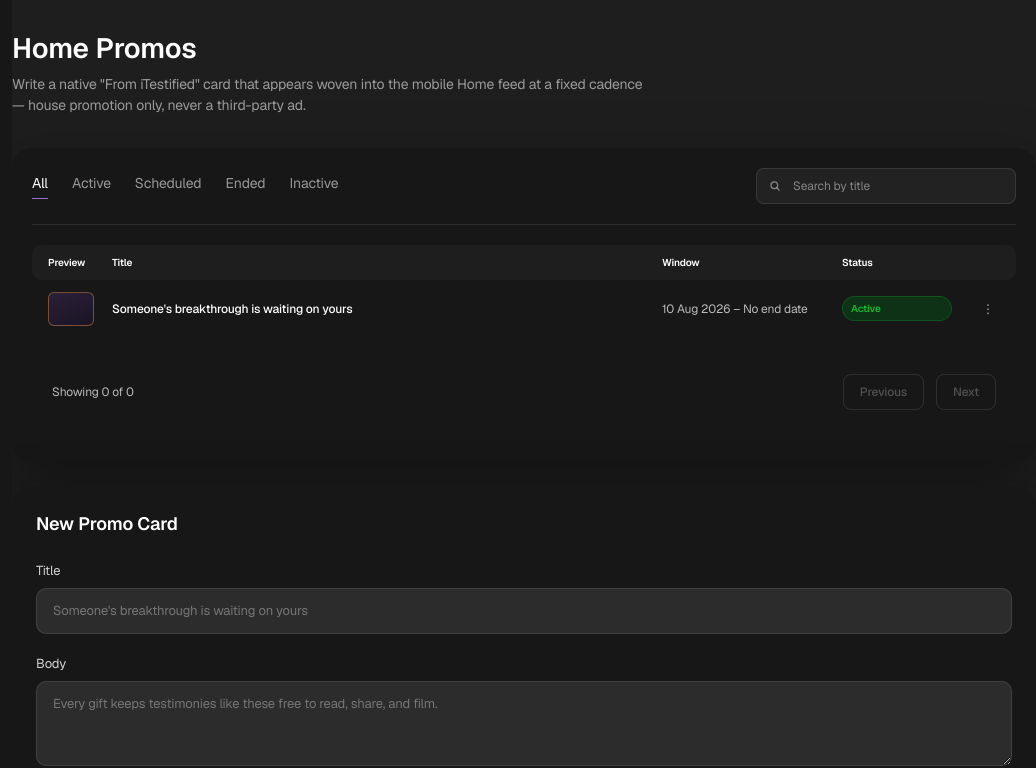
HomePromosPage › switching status tabs fetches and swaps in the new view model
The width and height of the screenshot is (1036, 768).
Click the button "Scheduled".
click(168, 186)  # box [135,173,202,199]
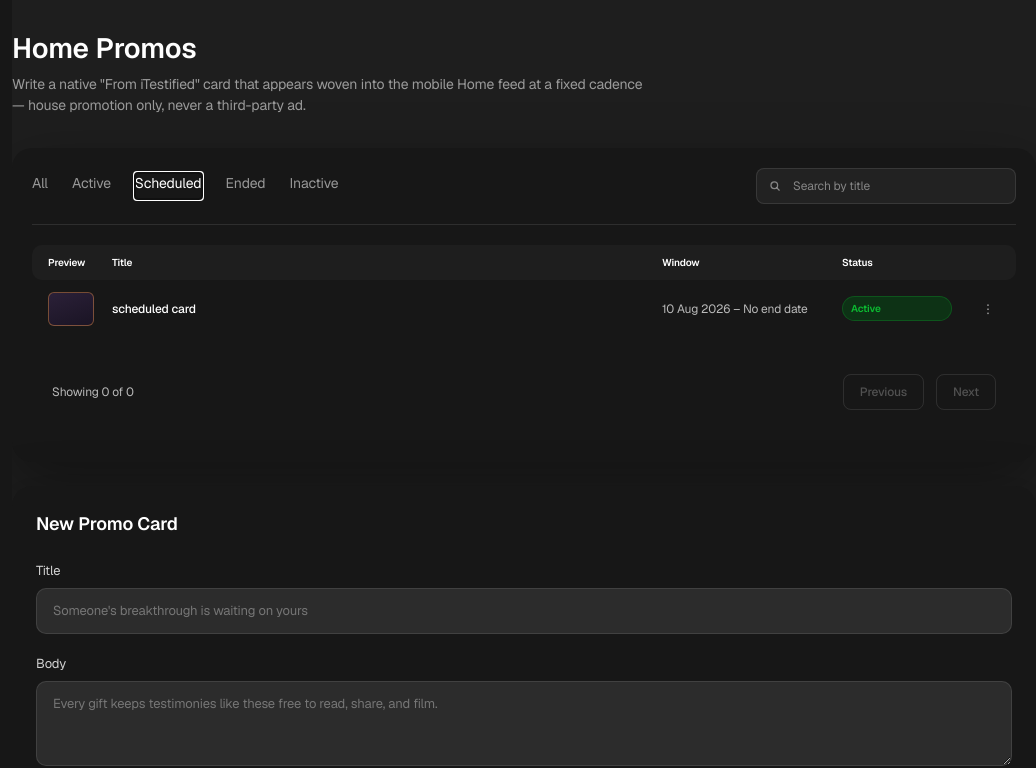
Result: the text "scheduled card" is shown at [112,301,196,317]
